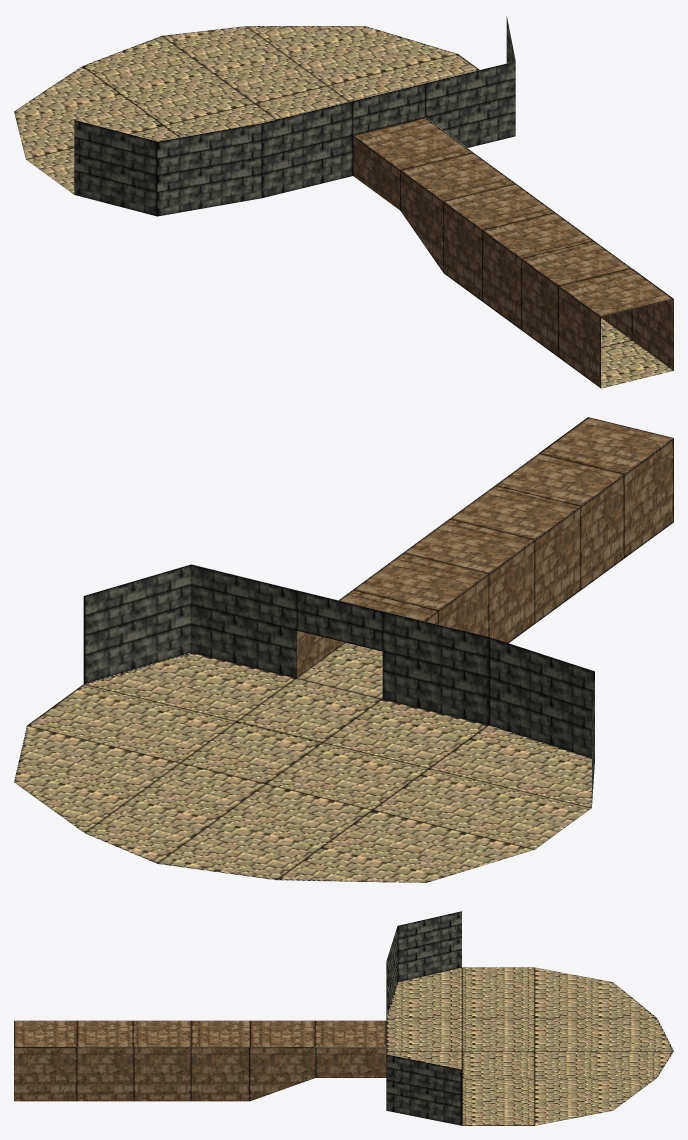
Rendered from test_maze_mapped3.obj.
3 views of the same model, one above another, from view 1: azimuth 30°, elevation 25°; view 2: azimuth 150°, elevation 25°; view 3: azimuth 270°, elevation 25° (orthographic). The views are drawn at different scales.
Visible parts, largest first — view 1: mesh01; view 2: mesh01; view 3: mesh01.
Boxes of the visible parts, box(x1,y1,x2,y2) form: mesh01: box(14, 16, 673, 388); mesh01: box(14, 417, 673, 882); mesh01: box(14, 911, 673, 1125).
Size of the model in its own units: 1171 by 275 by 2061.
Materials: 1 (1 with a texture image).
